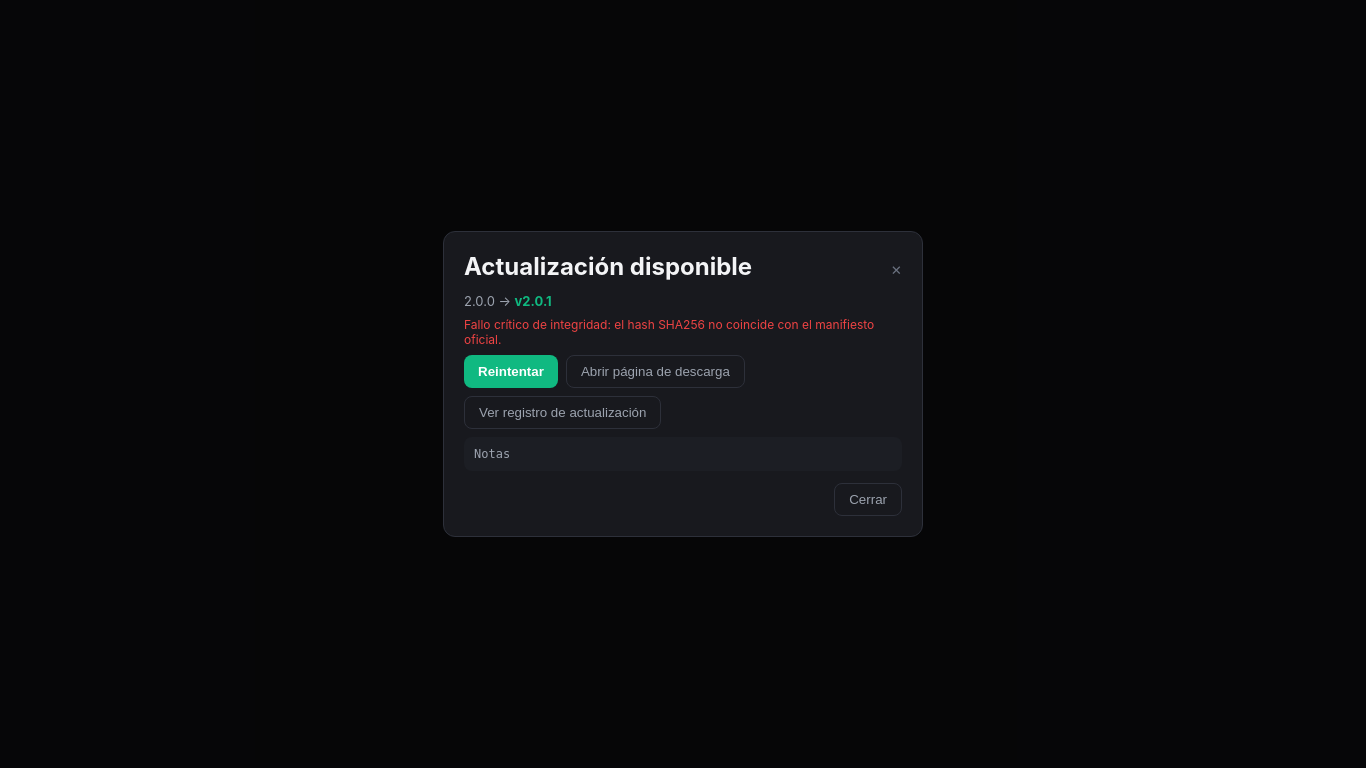
Test: UpdateModal › error de descarga: muestra la causa, Reintentar, página de descarga y registro
Later steps or results of the test are not shown.
Expected: the message shows "no coincide", [464, 317, 874, 347]
Click the button "Ver registro de actualización". click: (563, 412)
box: [464, 396, 661, 429]
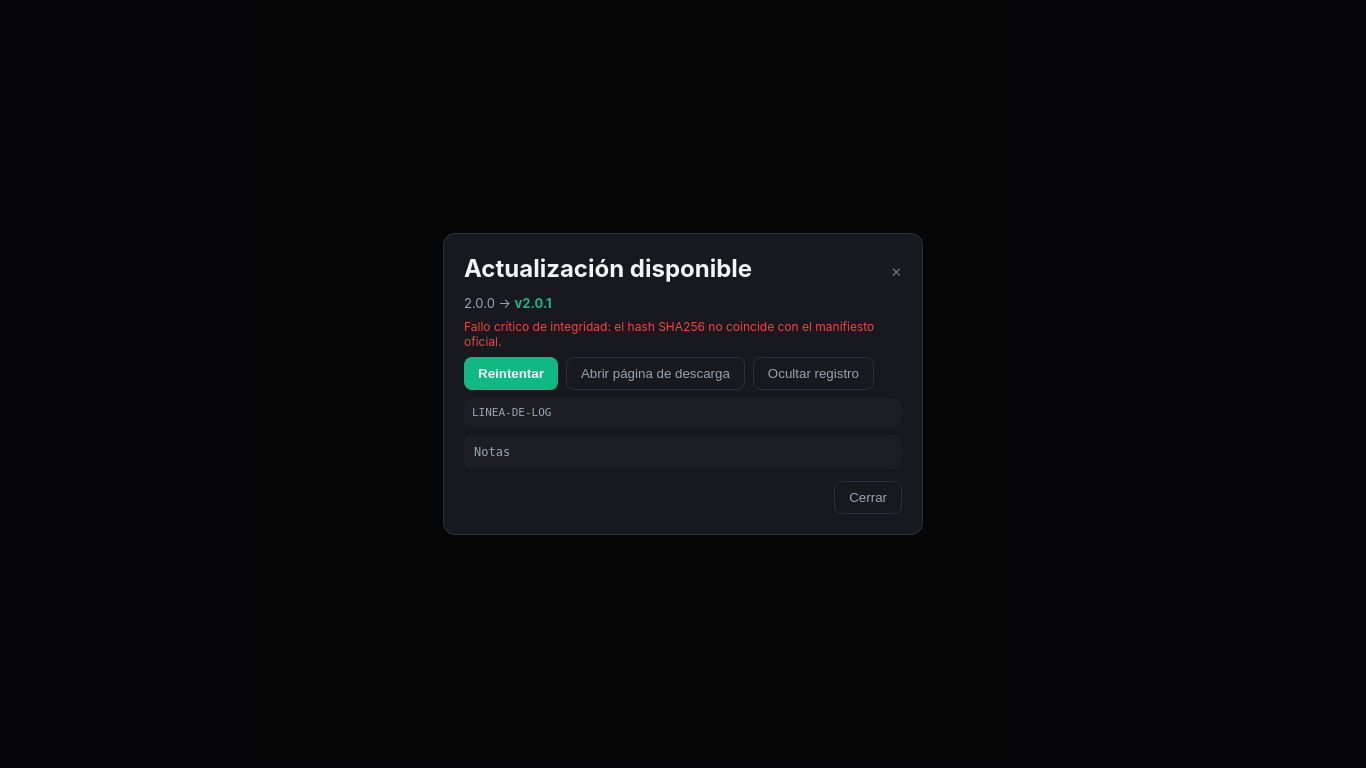
Now the text "LINEA-DE-LOG" is shown, box [464, 398, 902, 427]
